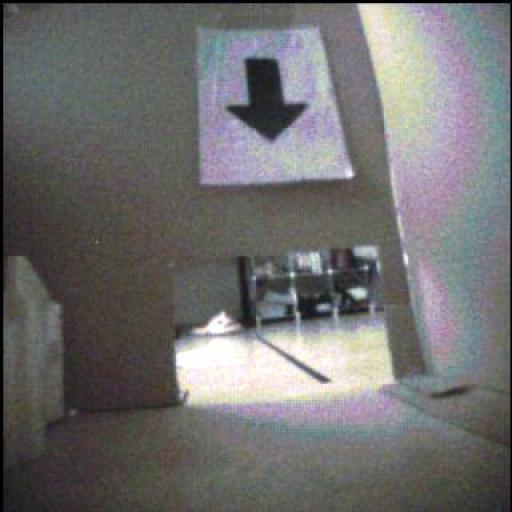arrow: (228, 60, 308, 142)
